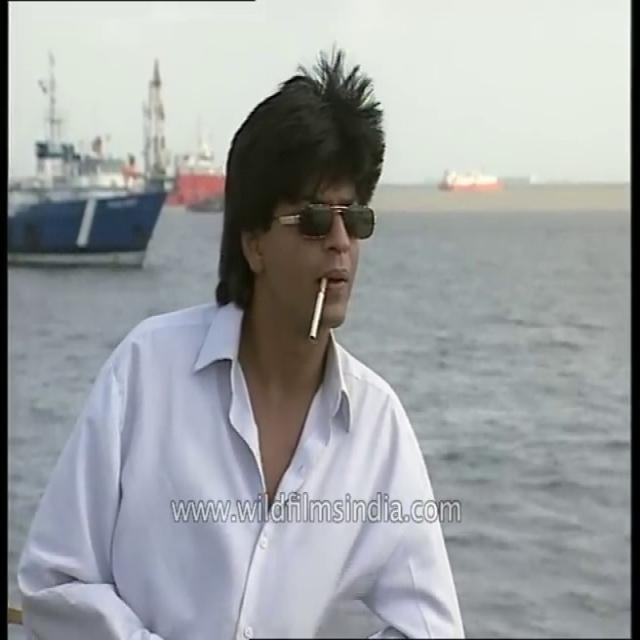Smooking: (303, 276, 338, 352)
